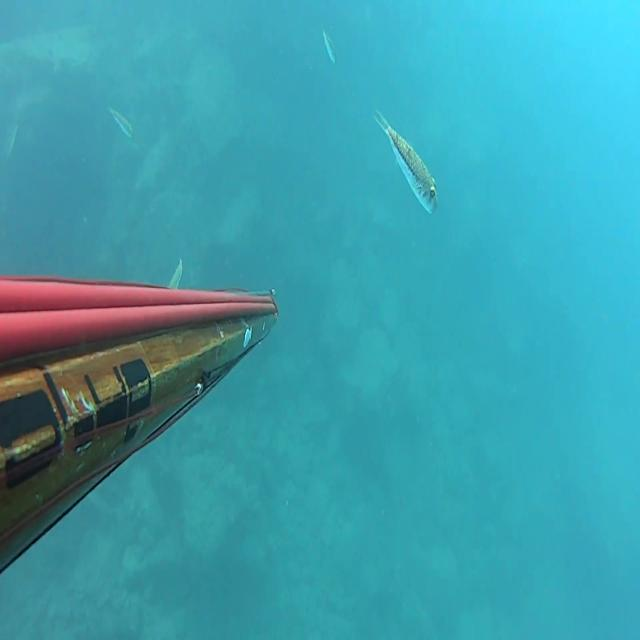Balon Baligi: (372, 107, 439, 216), (106, 104, 133, 138), (166, 254, 182, 290), (322, 29, 337, 64), (4, 124, 18, 160)
